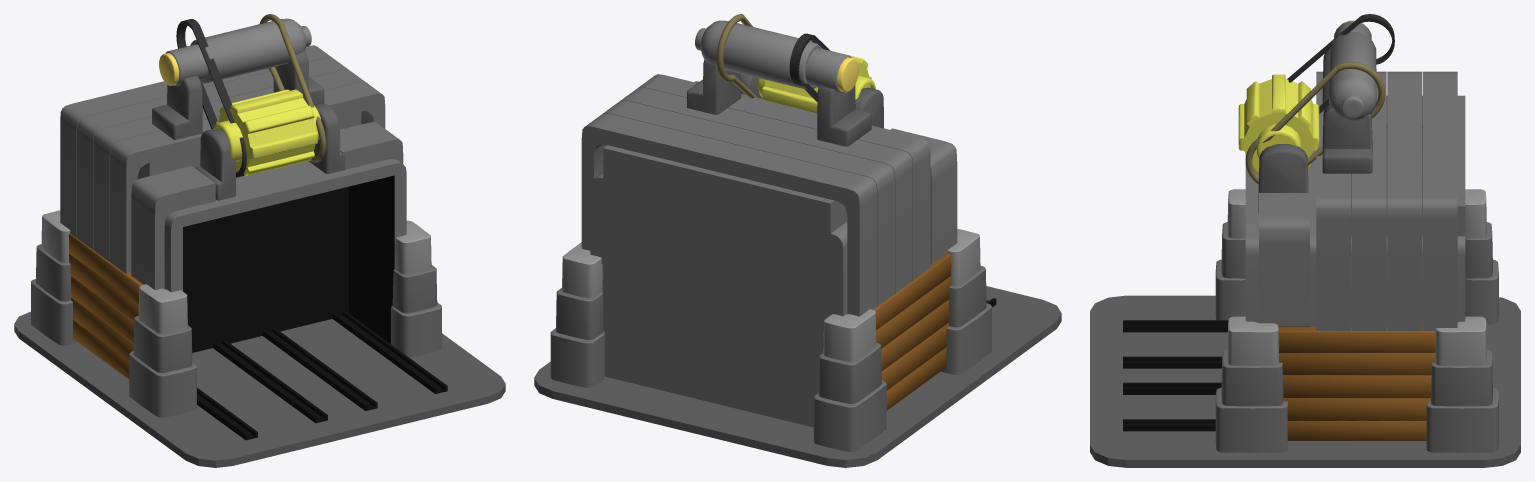
The model's file is Mine.fbx.
The picture shows the model from 3 angles, left to right: view 1: azimuth 30°, elevation 25°; view 2: azimuth 150°, elevation 25°; view 3: azimuth 270°, elevation 25°; orthographic projection. The views are drawn at different scales.
Visible parts, largest first — view 1: Mine, spinner; view 2: Mine, spinner; view 3: Mine, spinner.
Boxes of the visible parts, x1,y1,x2,y2 form: Mine: [14, 14, 505, 467]; spinner: [213, 89, 320, 175]; Mine: [534, 14, 1061, 467]; spinner: [758, 55, 876, 113]; Mine: [1090, 14, 1520, 467]; spinner: [1238, 74, 1319, 173].
Size of the model in its own units: 9.97 by 9.88 by 11.02.
